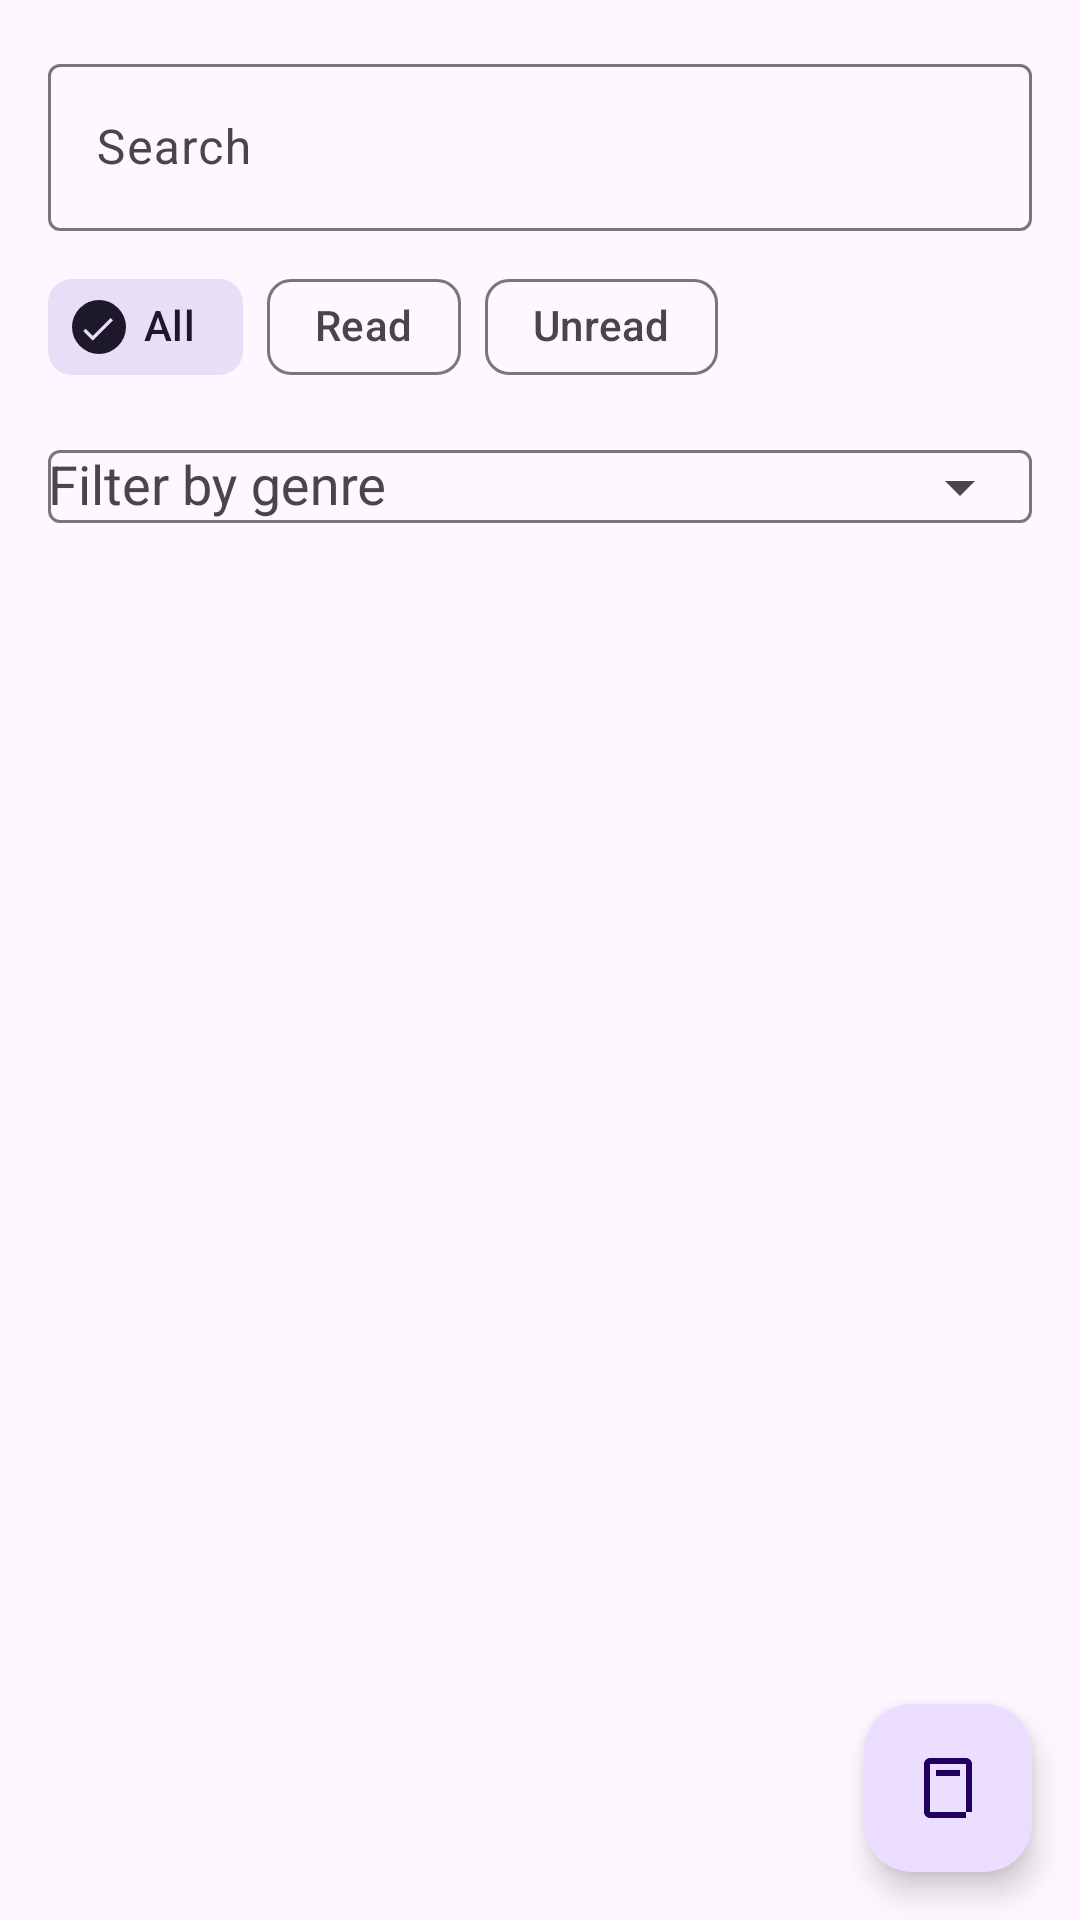

Icons on this 1080x1920 Android screen, each with the point to tap as (x=x, y=y):
Add book: (x=948, y=1788)
